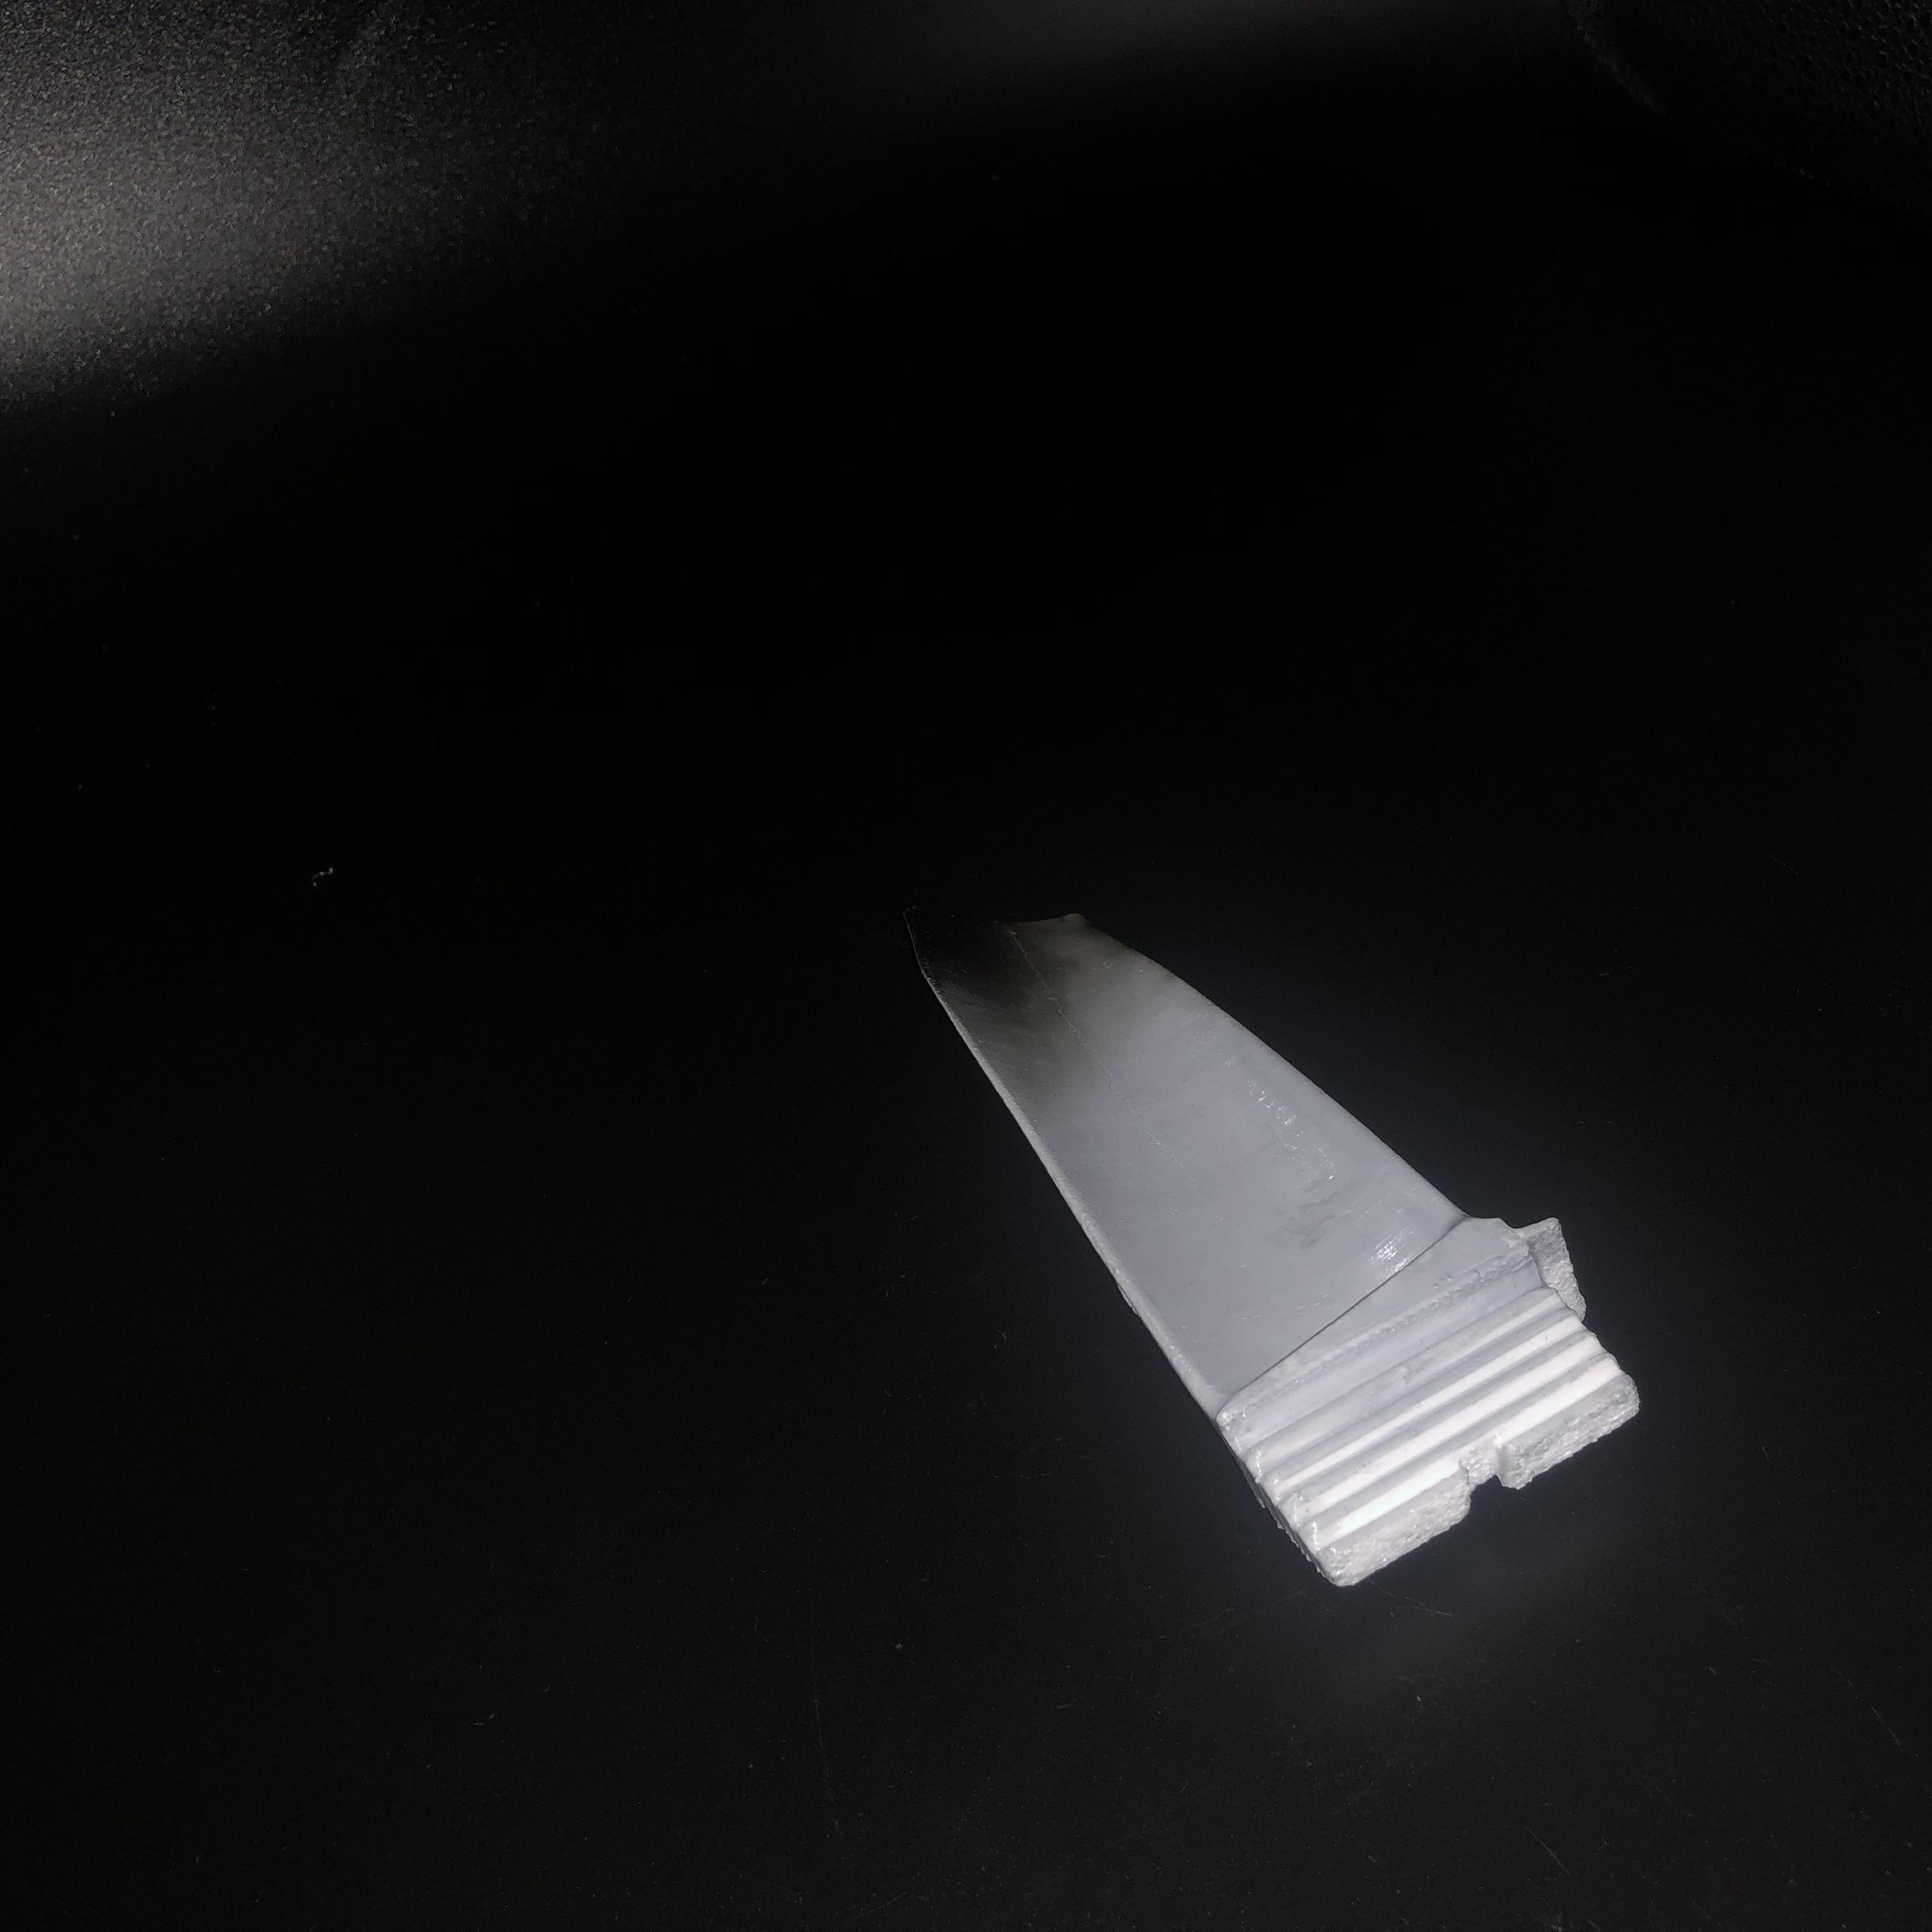ablation: (902, 906, 1173, 1039)
